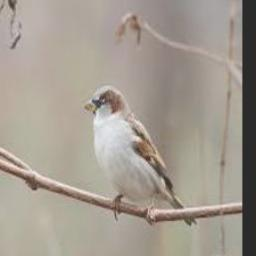Sparrow: (84, 85, 198, 226)
